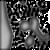node: (30, 16, 49, 42), (19, 20, 30, 31), (25, 35, 35, 47)
